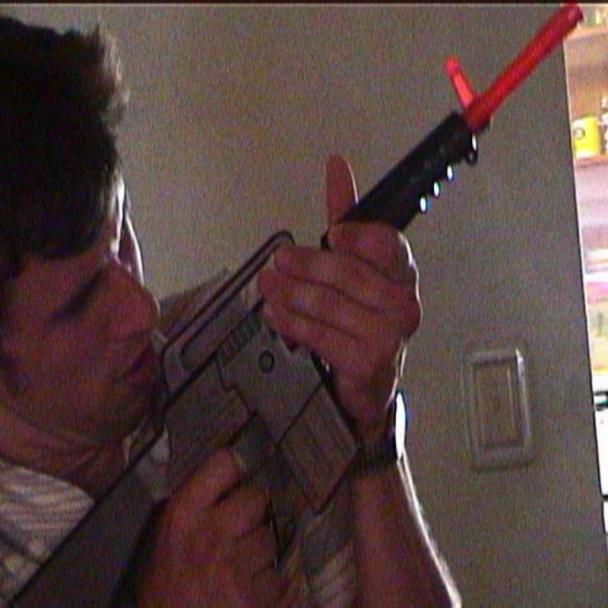Gun: (13, 0, 603, 607)
Hand: (258, 142, 431, 436), (138, 438, 293, 607)
